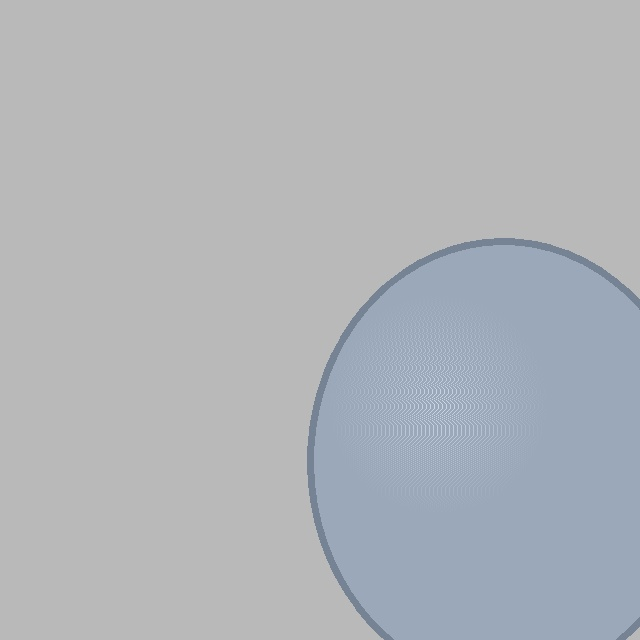lens: (310, 241, 640, 640)
